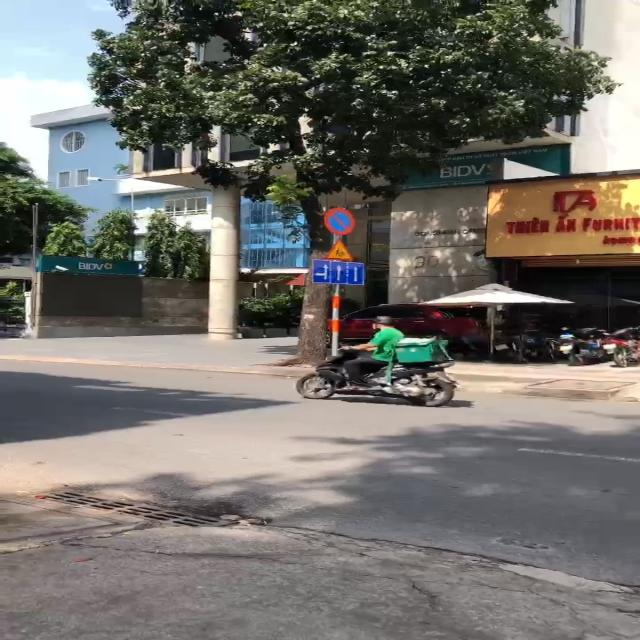Bien bao tre em: (319, 236, 357, 261)
